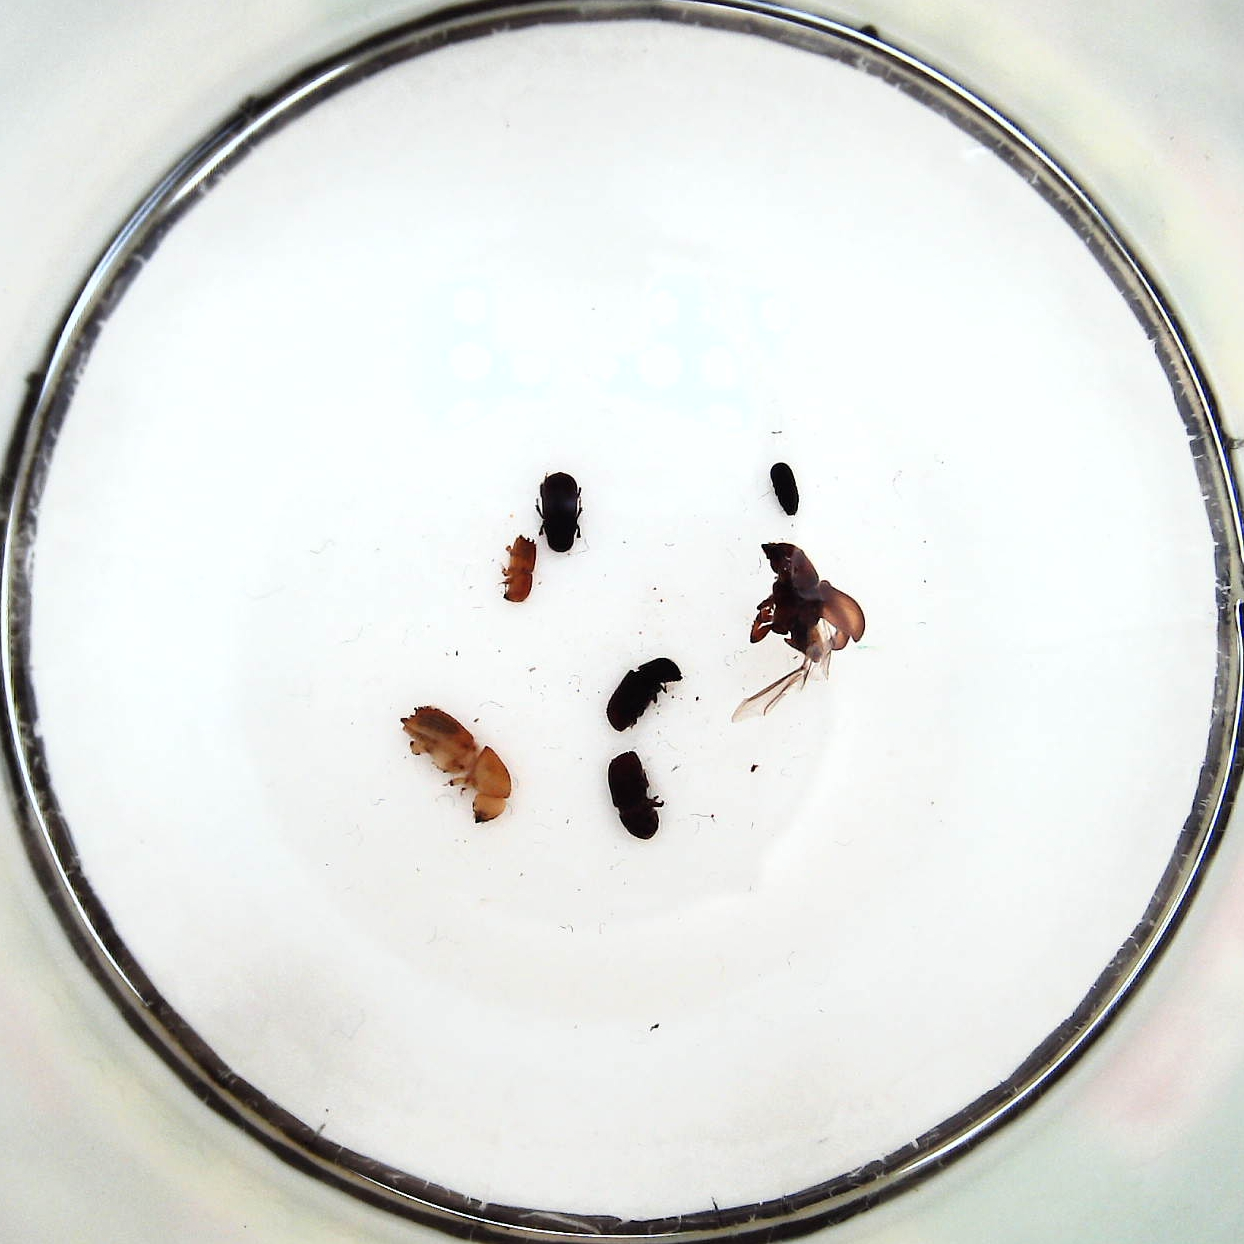Boerner: (399, 701, 511, 824)
Leconte: (751, 538, 867, 677)
Linnaeus: (607, 748, 664, 841)
acuminatus: (499, 533, 541, 603)
armandi: (603, 656, 685, 731), (538, 467, 584, 556)
coleoptera: (764, 457, 805, 518)
